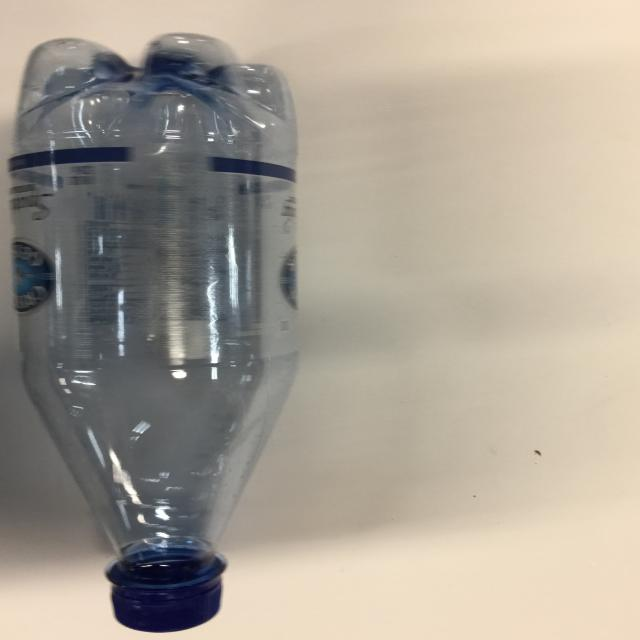plastic: (8, 32, 302, 631)
